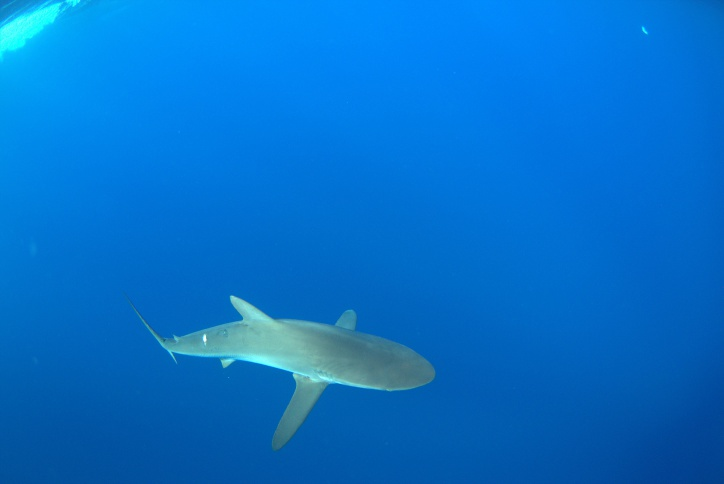Sedoso: (111, 261, 452, 461)
